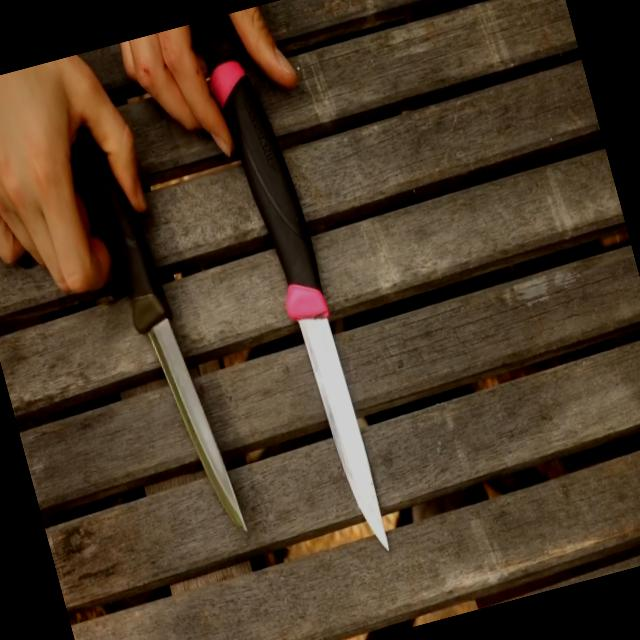knife: (48, 154, 256, 570), (264, 235, 404, 568)
